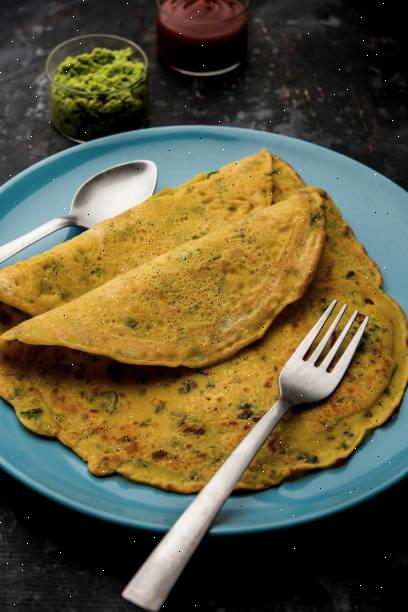omelette: (33, 226, 385, 466)
